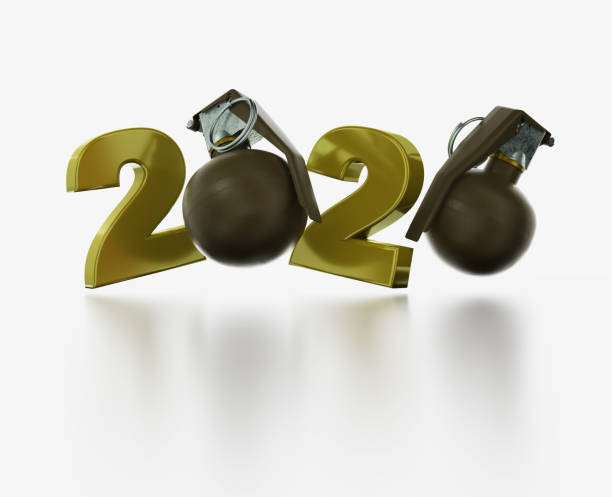e1: (409, 106, 557, 271), (181, 85, 316, 265)
